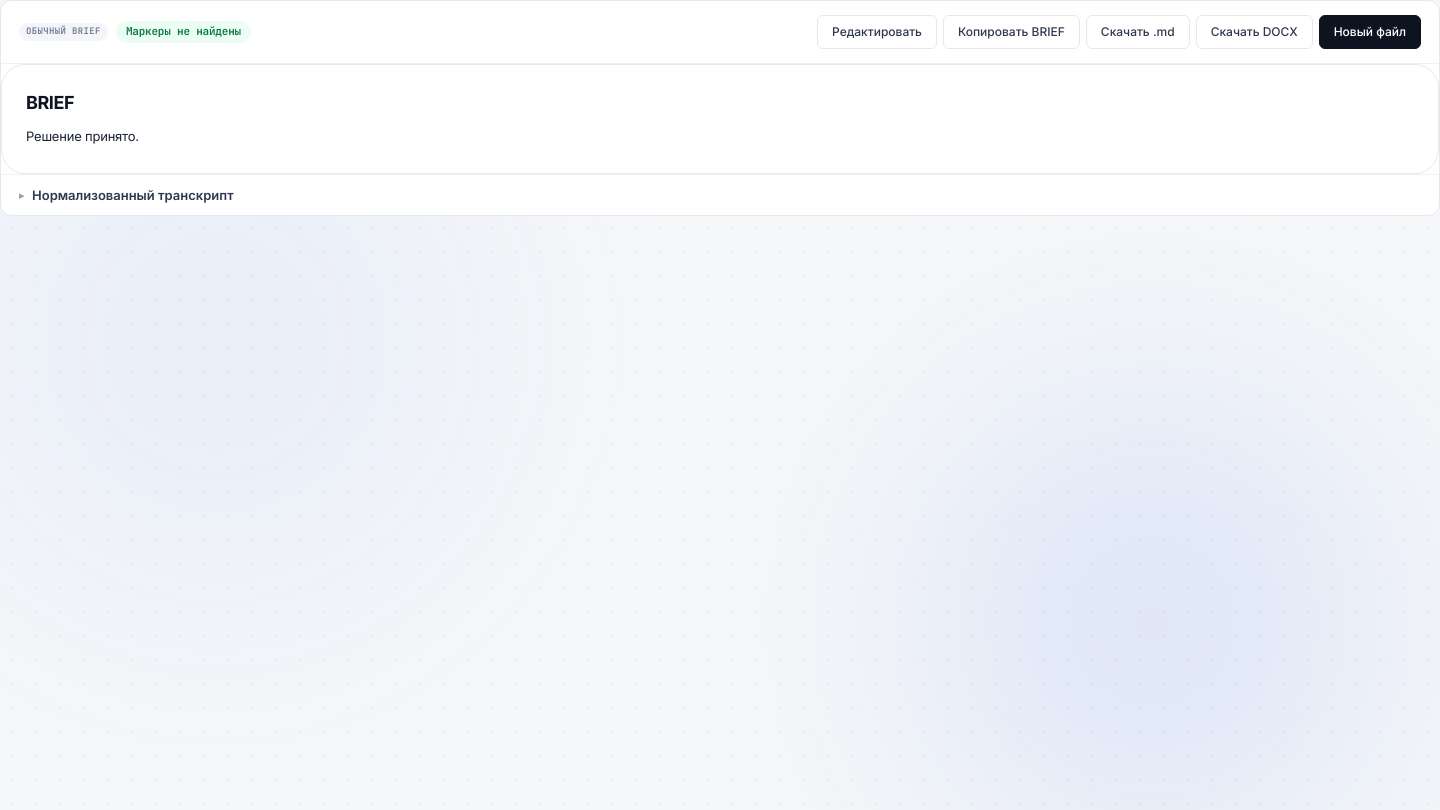
Test: TranscriptBriefV4 — primary_artifact rendering › offers the normalized_transcript accordion as a secondary tab when primary_artifact is brief
The width and height of the screenshot is (1440, 810).
Expected: the text "Очищенный текст здесь" is not shown
Click the button "▸ Нормализованный транскрипт".
click(133, 195)  # box [19,175,1421,215]
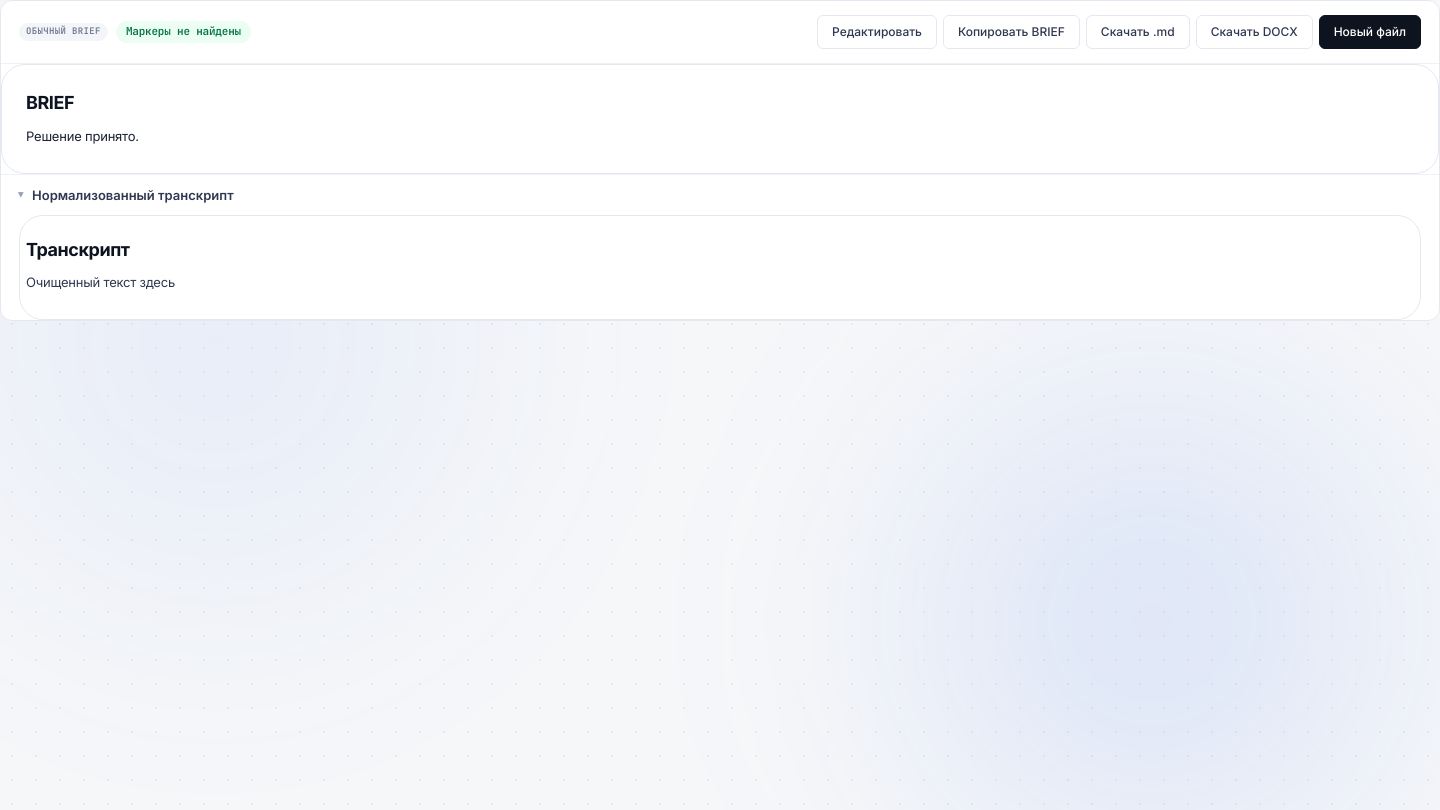
Result: the text "Очищенный текст здесь" is shown at [26,274,175,290]
